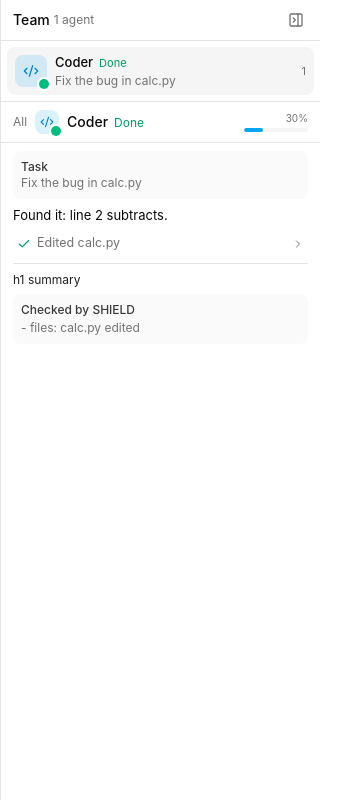
Test: TeamPanel › shows what the agent says, its tools with their output, and how it ended
Expected: the text "Found it: line 2 subtracts." is shown, [13,206,168,222]
Click the button "Edited calc.py" at [79, 243], box [13,232,308,255]
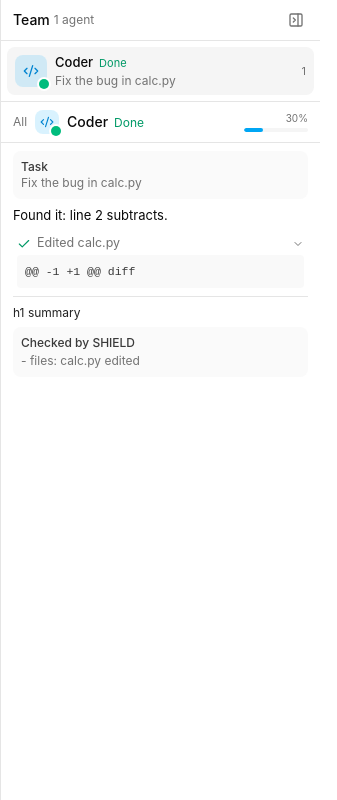
Expected: the text "h1 summary" is shown, [13,305,80,320]
Now the text "@@ -1 +1 @@ diff" is shown, box [17,255,304,288]
